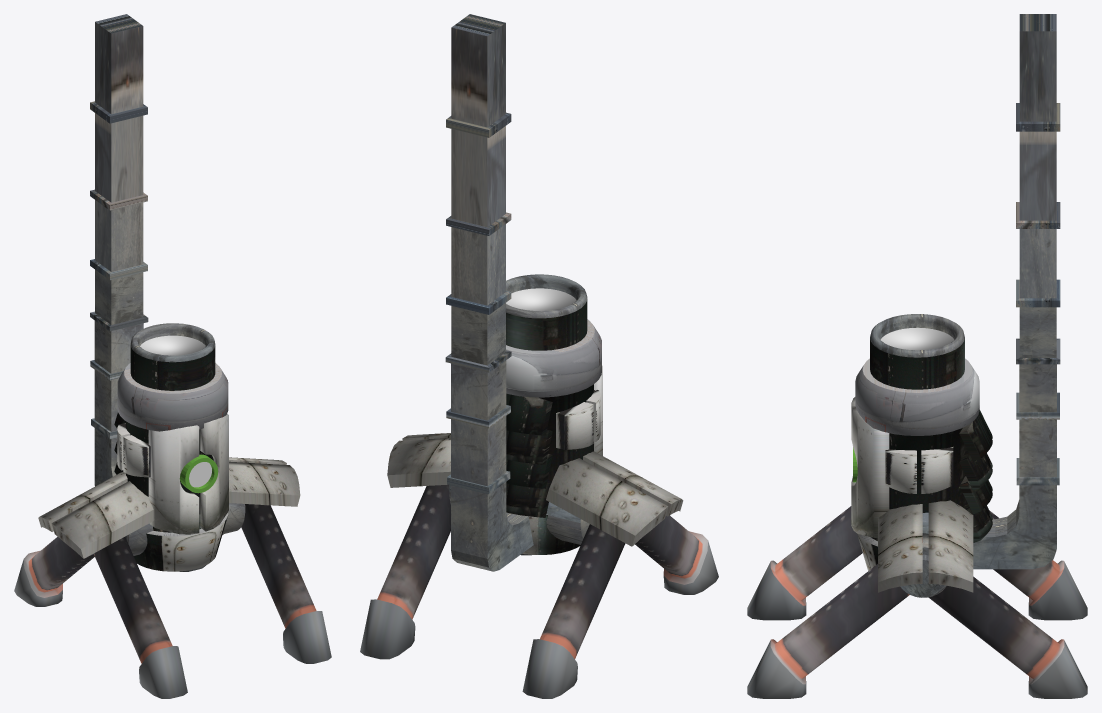
The model's file is Scrap 5.fbx.
3 renders of one model, left to right at view 1: azimuth 30°, elevation 25°; view 2: azimuth 150°, elevation 25°; view 3: azimuth 270°, elevation 25°, orthographic. The views are drawn at different scales.
Parts seen in each view (by area): view 1: Cylinder; view 2: Cylinder; view 3: Cylinder.
Part boxes in pixels (<box>): Cylinder: <box>14,14,331,698</box>; Cylinder: <box>360,14,718,698</box>; Cylinder: <box>747,14,1087,698</box>.
Bounding box in the file's own units: 805 × 1812 × 889.
